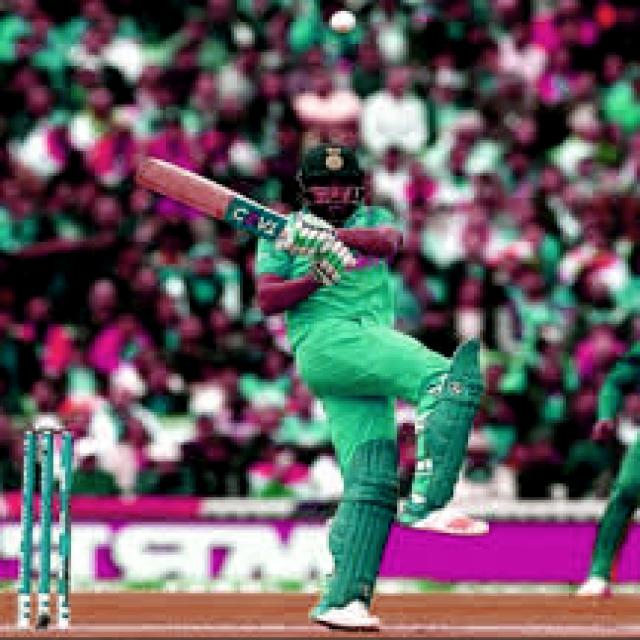toe: (121, 155, 175, 194)
